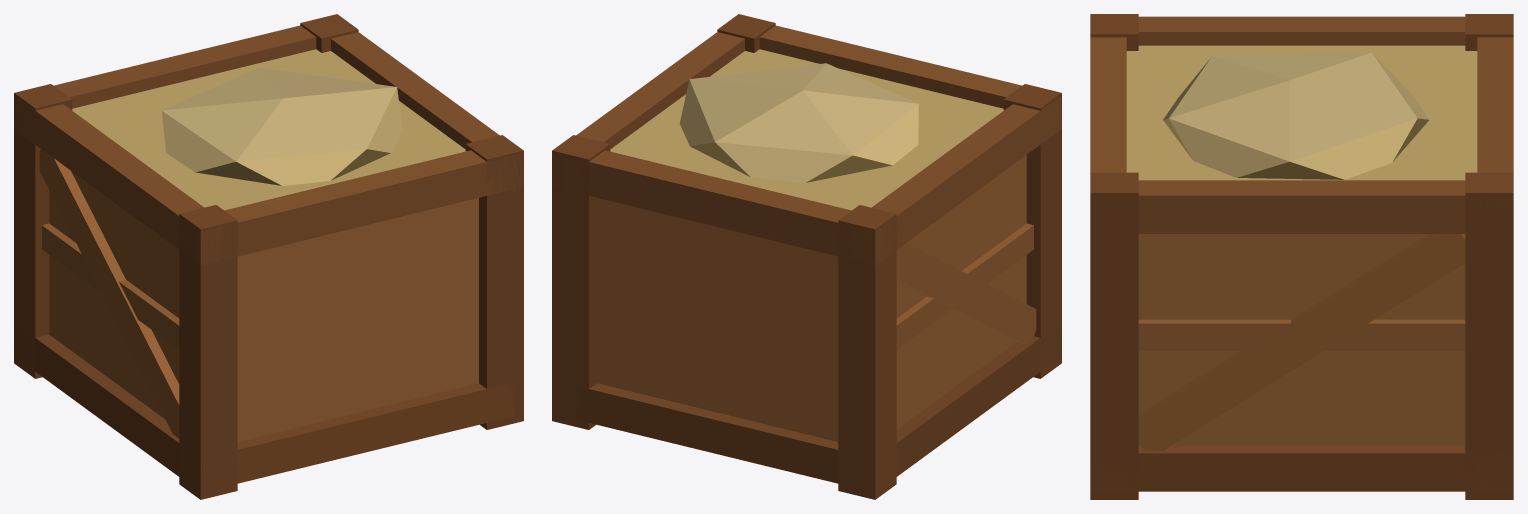
File: crate.glb
3 views of the same model, side by side, from view 1: azimuth 30°, elevation 25°; view 2: azimuth 150°, elevation 25°; view 3: azimuth 270°, elevation 25° (orthographic). The views are drawn at different scales.
Parts seen in each view (by area): view 1: crate; view 2: crate; view 3: crate.
Part boxes in pixels (x1,y1,x2,y2): crate: [14, 14, 523, 499]; crate: [552, 14, 1061, 499]; crate: [1090, 14, 1513, 499].
Size of the model in its own units: 0.7 by 0.6119 by 0.7.
